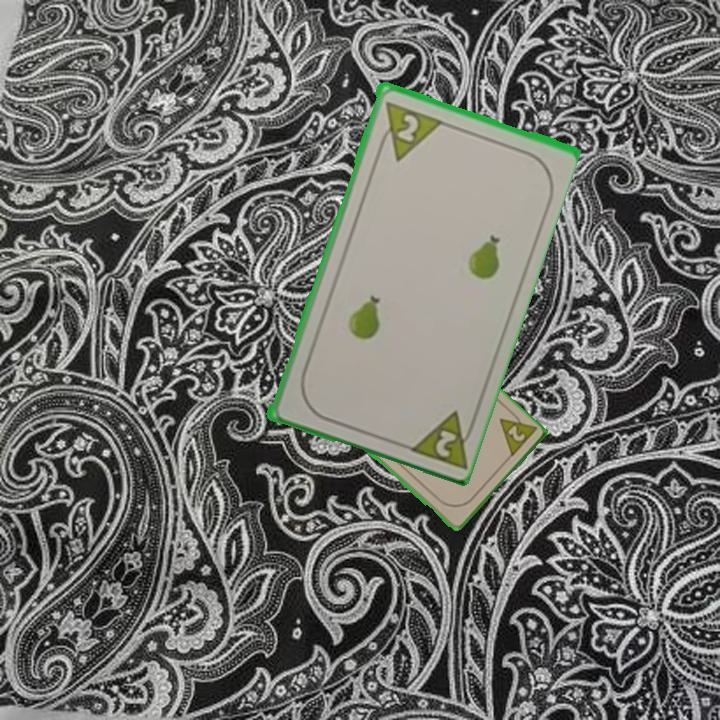2p: (402, 405, 481, 471), (372, 97, 443, 164), (495, 405, 538, 461)
